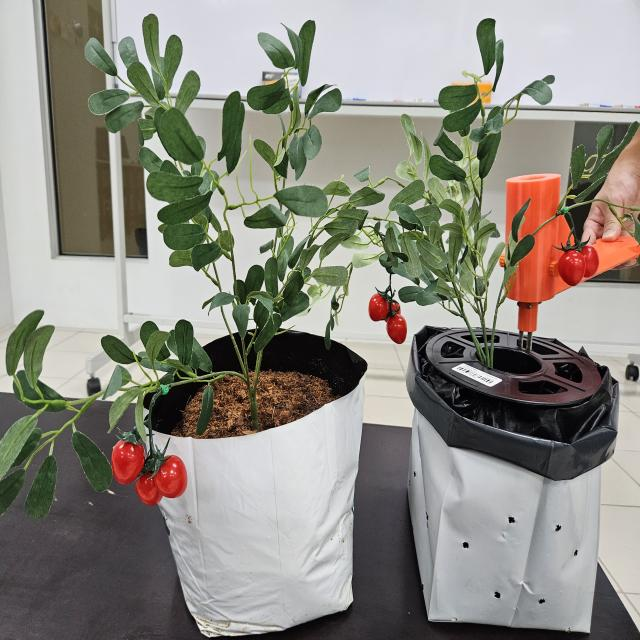EndEffector: (504, 173, 640, 334)
Soilbag: (134, 337, 368, 640), (408, 410, 601, 633)
Tomato: (111, 442, 189, 508), (367, 287, 408, 345), (557, 246, 599, 287), (590, 263, 640, 283)
plant: (0, 14, 385, 520), (368, 19, 619, 370)
